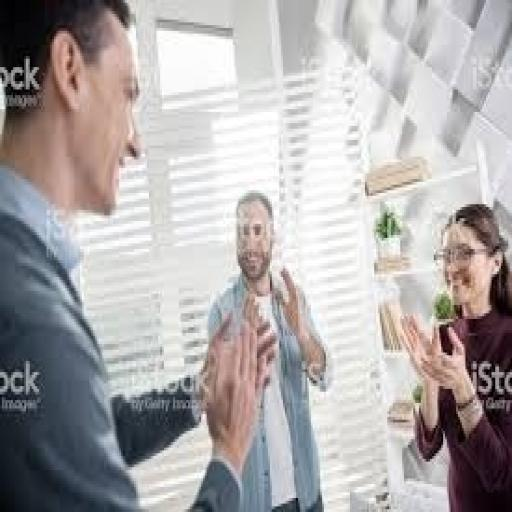clapping: (0, 0, 274, 509), (203, 188, 331, 509), (397, 202, 510, 510)
